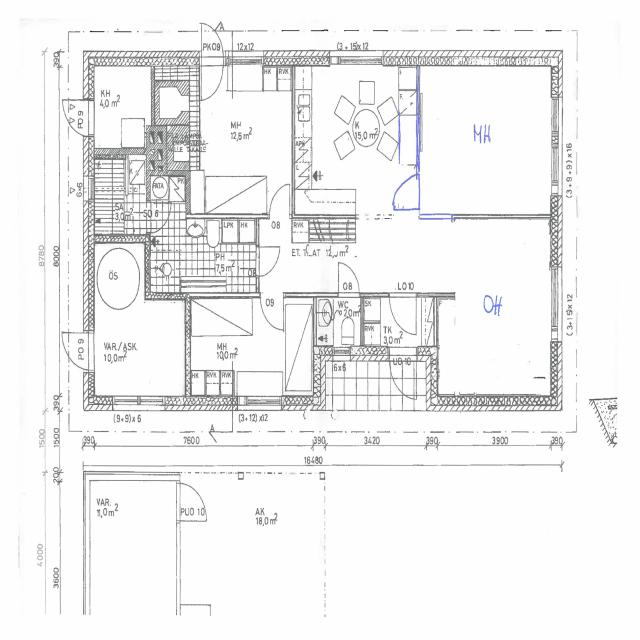door: (389, 345, 416, 398), (56, 333, 94, 370), (58, 100, 94, 136), (176, 483, 208, 520), (389, 292, 416, 335), (201, 19, 224, 66), (201, 50, 224, 96), (391, 174, 421, 209), (260, 292, 284, 330), (146, 202, 172, 232), (255, 247, 281, 276), (338, 264, 359, 298), (270, 186, 289, 218)
